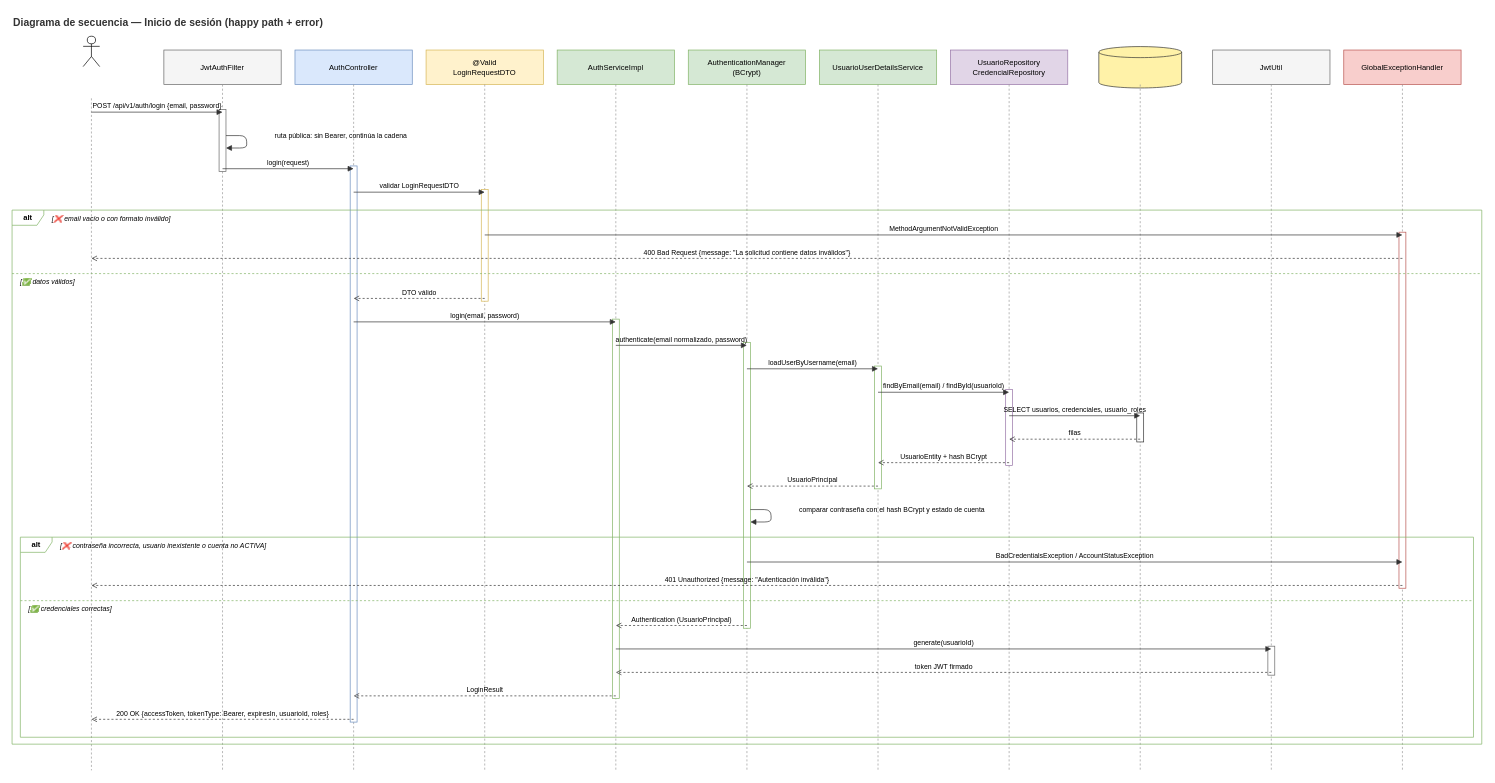
Image size: 1495x783. Some labels were removed from this diagram. The shapes that lost their labels are listed below. From the top down, each one's box as (x1, y1, x2, y2) in pixels, then its label:
(82, 36, 100, 67): Cliente / Front
(1098, 46, 1182, 88): PostgreSQL
